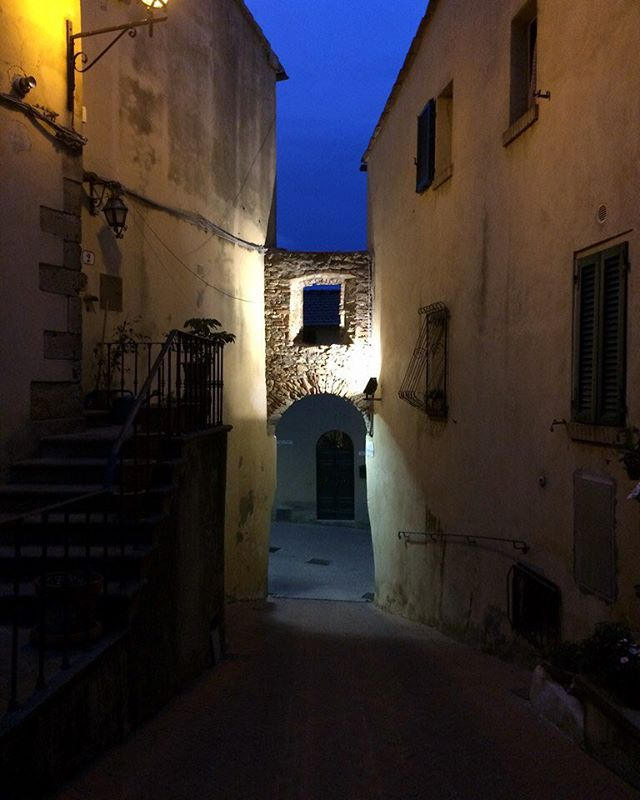building: (359, 1, 640, 648), (1, 1, 284, 598)
door: (314, 427, 359, 526)
sky: (268, 1, 388, 235)
